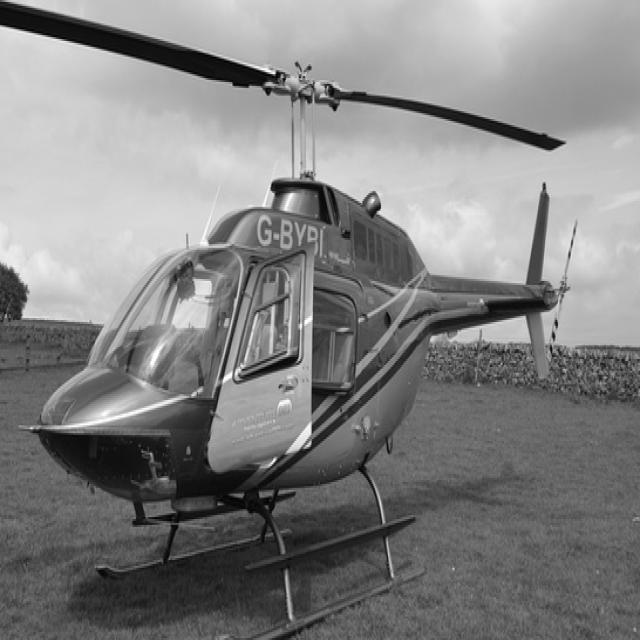helicopter: (1, 1, 580, 640)
